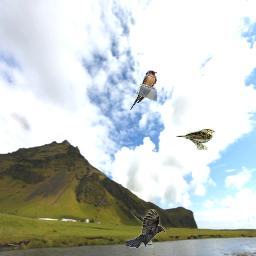Crow: (126, 209, 166, 248)
Sparrow: (176, 128, 216, 150)
Swallow: (130, 70, 157, 110)
